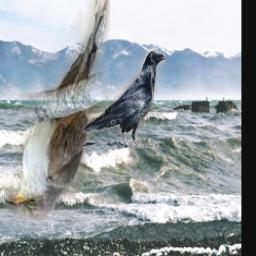Crow: (84, 50, 166, 148)
Cuckoo: (5, 0, 111, 221)
